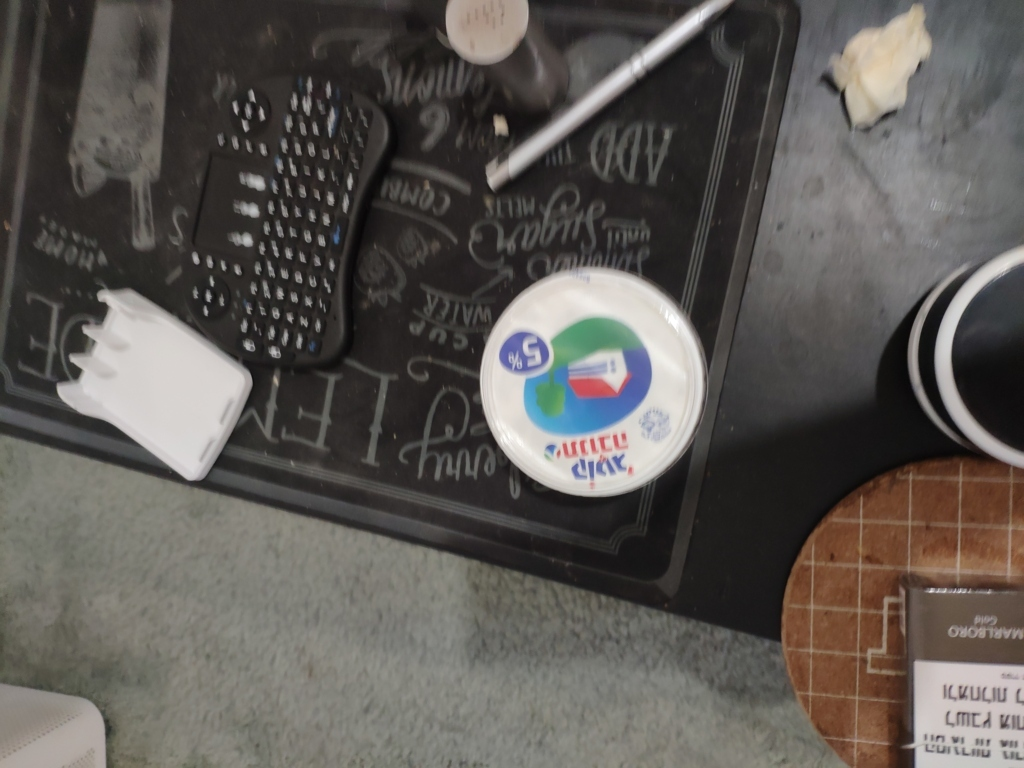Cotage: (467, 262, 715, 537)
